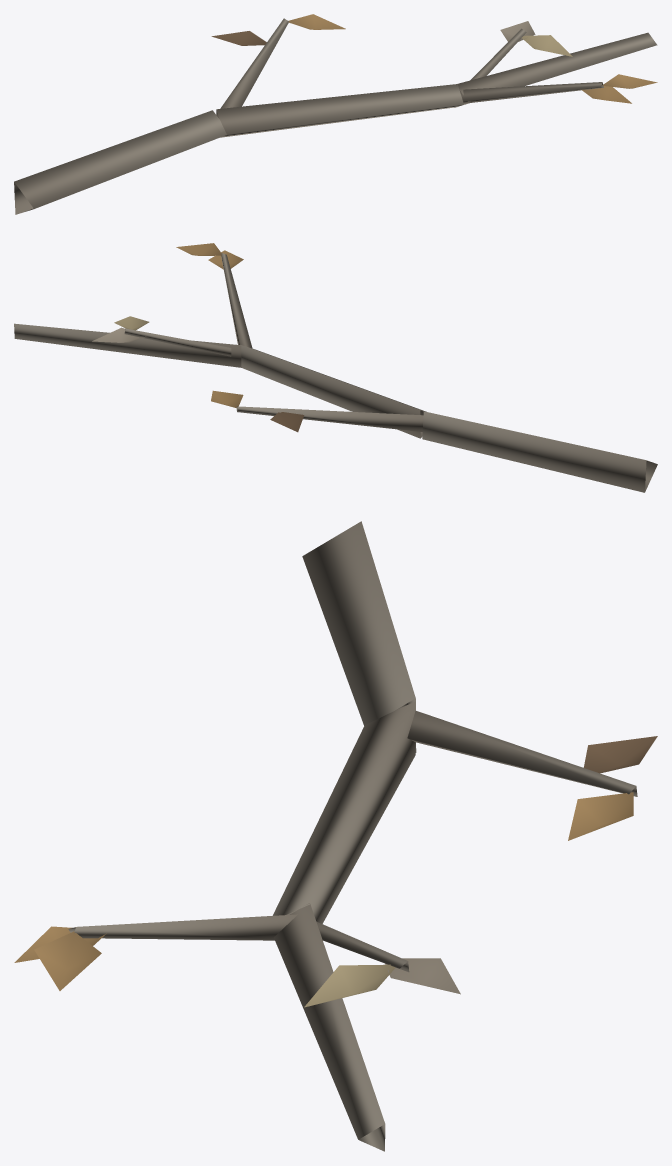
The model's file is gc_fallen_branch.glb.
3 views of the same model, one above another, from view 1: azimuth 30°, elevation 25°; view 2: azimuth 150°, elevation 25°; view 3: azimuth 270°, elevation 25° (orthographic). The views are drawn at different scales.
Parts seen in each view (by area): view 1: gc_fallen_branch; view 2: gc_fallen_branch; view 3: gc_fallen_branch.
Boxes of the visible parts, <box> form: gc_fallen_branch: <box>14,14,657,214</box>; gc_fallen_branch: <box>14,243,657,492</box>; gc_fallen_branch: <box>14,521,657,1151</box>.
Bounding box in the file's own units: 1.21 × 0.1164 × 0.5639.
